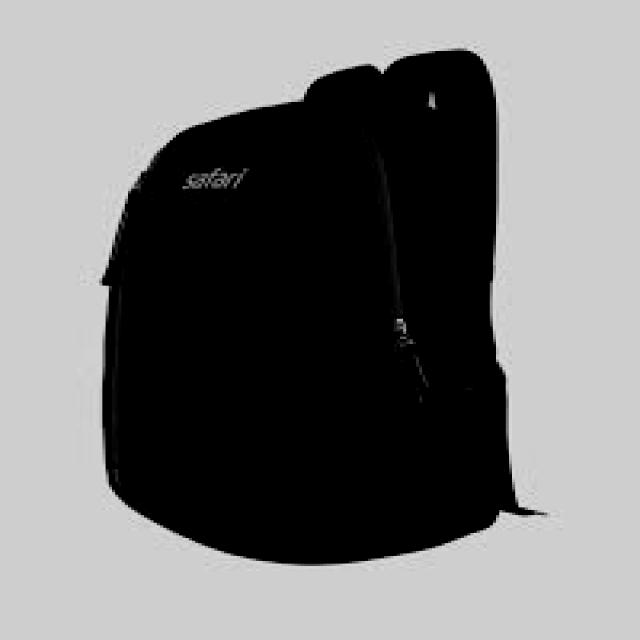backpack: (100, 47, 548, 565)
